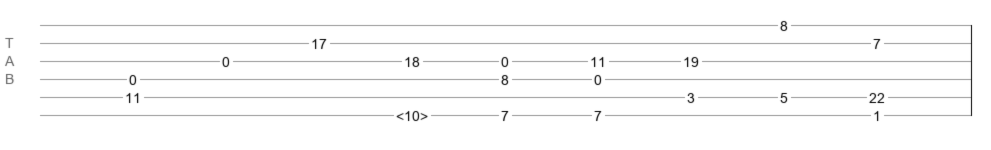0: (129, 72, 137, 82), (222, 54, 230, 64), (501, 54, 509, 64), (594, 72, 602, 82)
1: (873, 108, 881, 118)
11: (125, 90, 141, 100), (590, 54, 606, 64)
17: (311, 36, 327, 46)
18: (404, 54, 420, 64)
19: (683, 54, 699, 64)
22: (869, 90, 885, 100)
3: (687, 90, 695, 100)
5: (780, 90, 788, 100)
7: (501, 108, 509, 118), (594, 108, 602, 118), (873, 36, 881, 46)
8: (501, 72, 509, 82), (780, 18, 788, 28)
harmonic: (396, 108, 428, 118)
